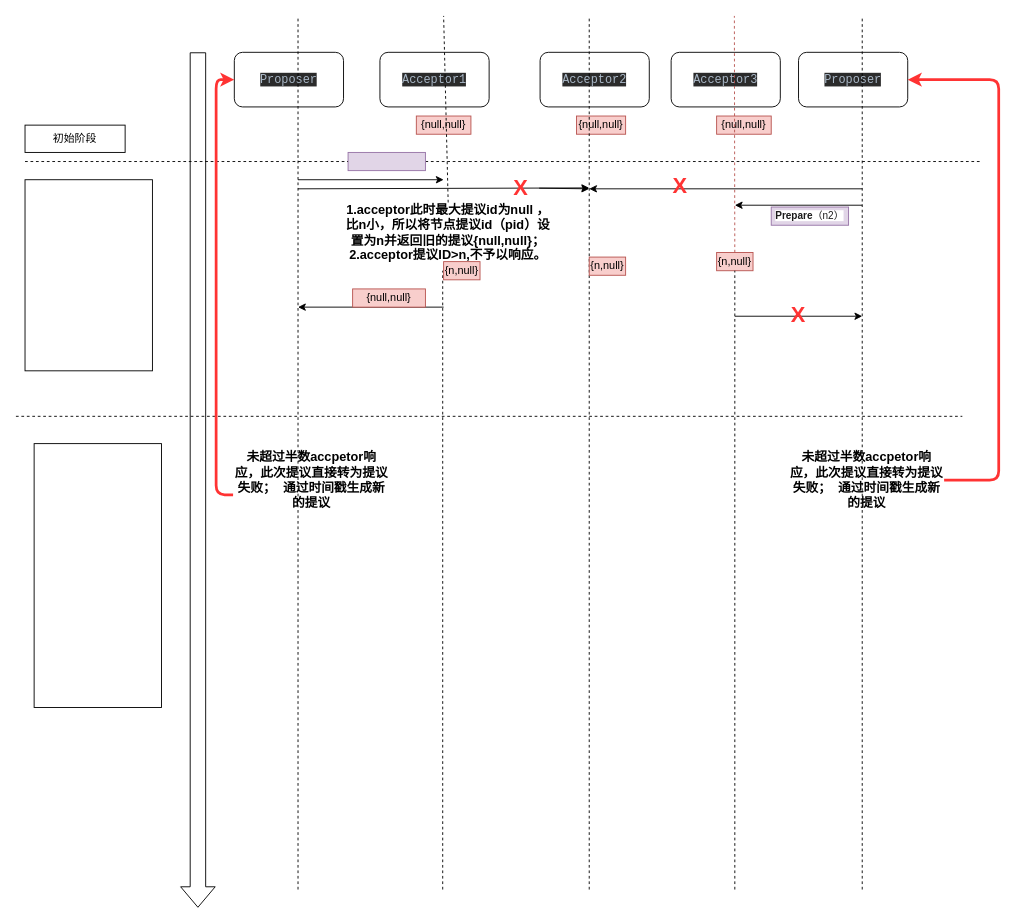
Some shapes in this 1023 by 924 pixel diagram are drawn without their labels. The centre of each missing label's shape, as x and y in pixels:
"Prepare （n1）" belongs at (386,161).
"Proposer 广播Prepare（n）请求" belongs at (88,275).
"提交协议" belongs at (97,575).
